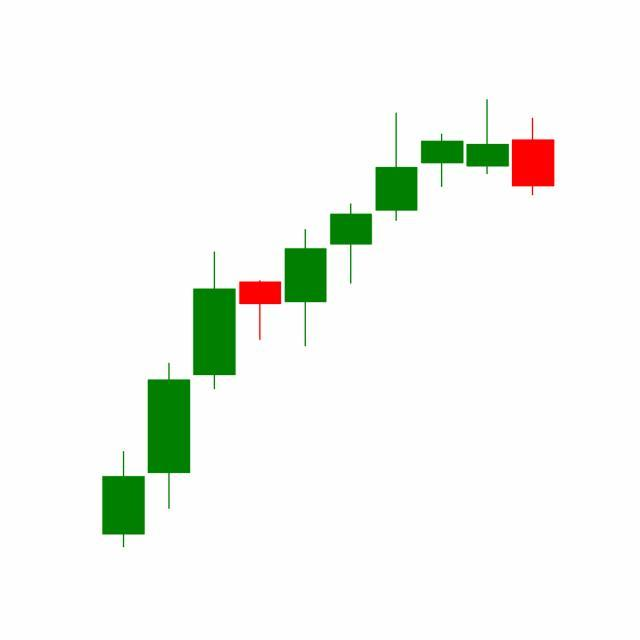Hikkake Pattern: (283, 99, 512, 350)
